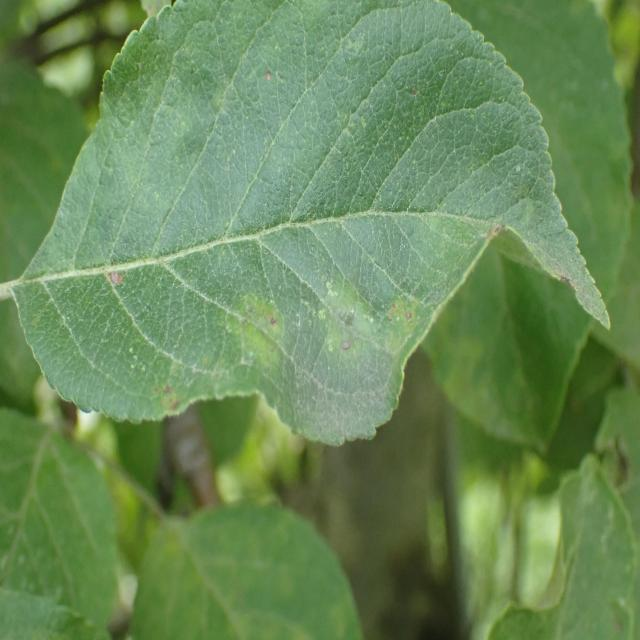scab: (69, 133, 588, 414)
